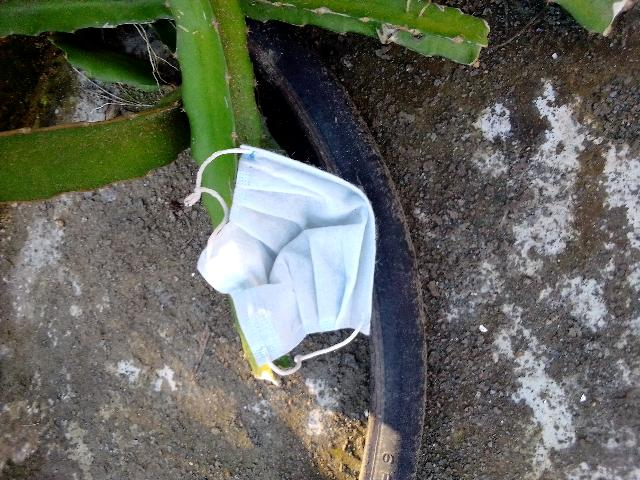mask: (171, 131, 386, 382)
